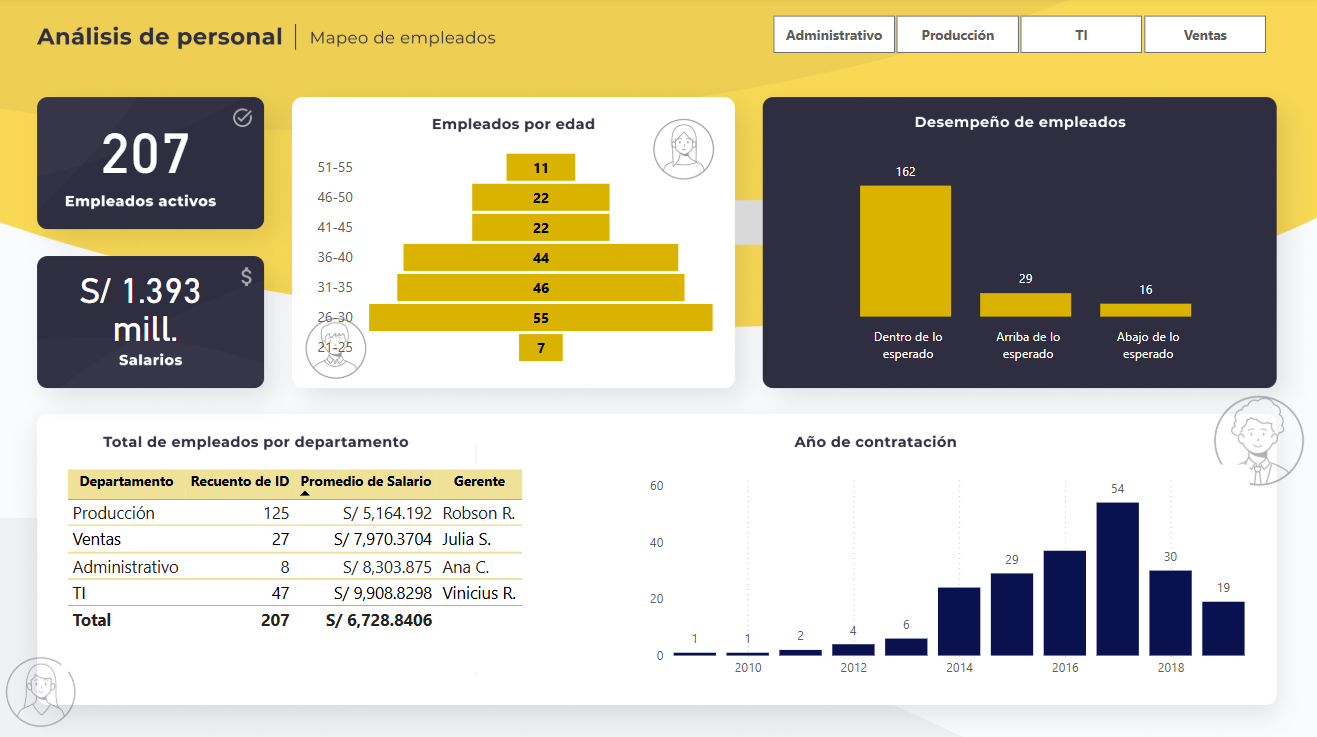

The dashboard page shown, as its layout file describes it:
{"tool":"powerbi","page":{"name":"Página 1","canvas":[1280,720],"ordinal":0},"visuals":[{"type":"card","fields":{"Values":["integrantes.Total_personal"]},"box":[71.4,100.2,138.6,87.8],"z":0},{"type":"card","fields":{"Values":["integrantes.Salario_totales"]},"box":[52.1,251.8,176.7,96.8],"z":1000},{"type":"tableEx","fields":{"Values":["departamentos.Departamento","integrantes.ID","integrantes.Salario","departamentos.Gerente"]},"box":[59.9,453.3,461.8,201],"z":2000},{"type":"clusteredColumnChart","fields":{"Category":["integrantes.Fecha de contratación.Variación.Jerarquía de fechas.Año"],"Y":["integrantes.Total_personal"]},"box":[624.3,453.3,585.8,215.2],"z":3000},{"type":"clusteredColumnChart","fields":{"Y":["integrantes.Total_personal"],"Category":["integrantes.Registro de desempeño"]},"box":[762.6,144,447.6,216.7],"z":4000},{"type":"funnel","fields":{"Y":["integrantes.Total_personal"],"Category":["integrantes.Rango Edad"]},"box":[302.2,144,397.7,216.7],"z":5000},{"type":"slicer","fields":{"Values":["departamentos.Departamento"]},"box":[722.7,11.4,527.4,49.9],"z":6000}]}

Visuals, with their boxes in screenshot pixels (x1, y1, x2, y2), scaled from the page's 1280x720 canvas onto the 1317x737 screenshot:
card - integrantes.Total_personal: [73, 103, 216, 192]
card - integrantes.Salario_totales: [54, 258, 235, 357]
tableEx - departamentos.Departamento x integrantes.ID: [62, 464, 537, 670]
clusteredColumnChart - integrantes.Fecha de contratación.Variación.Jerarquía de fechas.Año x integrantes.Total_personal: [642, 464, 1245, 684]
clusteredColumnChart - integrantes.Total_personal x integrantes.Registro de desempeño: [785, 147, 1245, 369]
funnel - integrantes.Total_personal x integrantes.Rango Edad: [311, 147, 720, 369]
slicer - departamentos.Departamento: [744, 12, 1286, 63]
